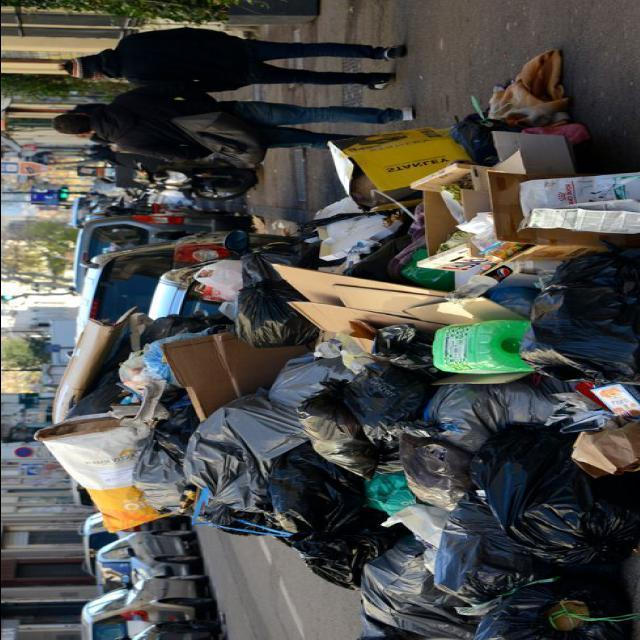Trashbag: (471, 434, 628, 558), (178, 393, 312, 512), (528, 259, 640, 385), (266, 467, 364, 581), (426, 381, 556, 442), (365, 570, 465, 638), (301, 397, 376, 476), (407, 531, 510, 587), (270, 355, 360, 413), (231, 288, 294, 362), (406, 427, 464, 504), (365, 367, 420, 436)
